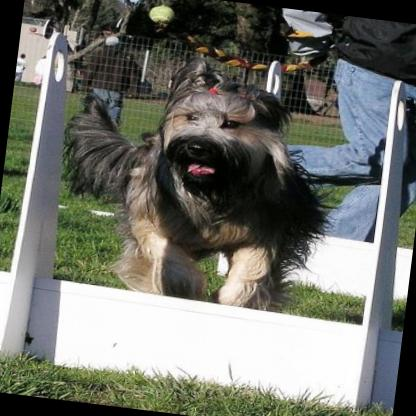briard: (44, 40, 360, 316)
